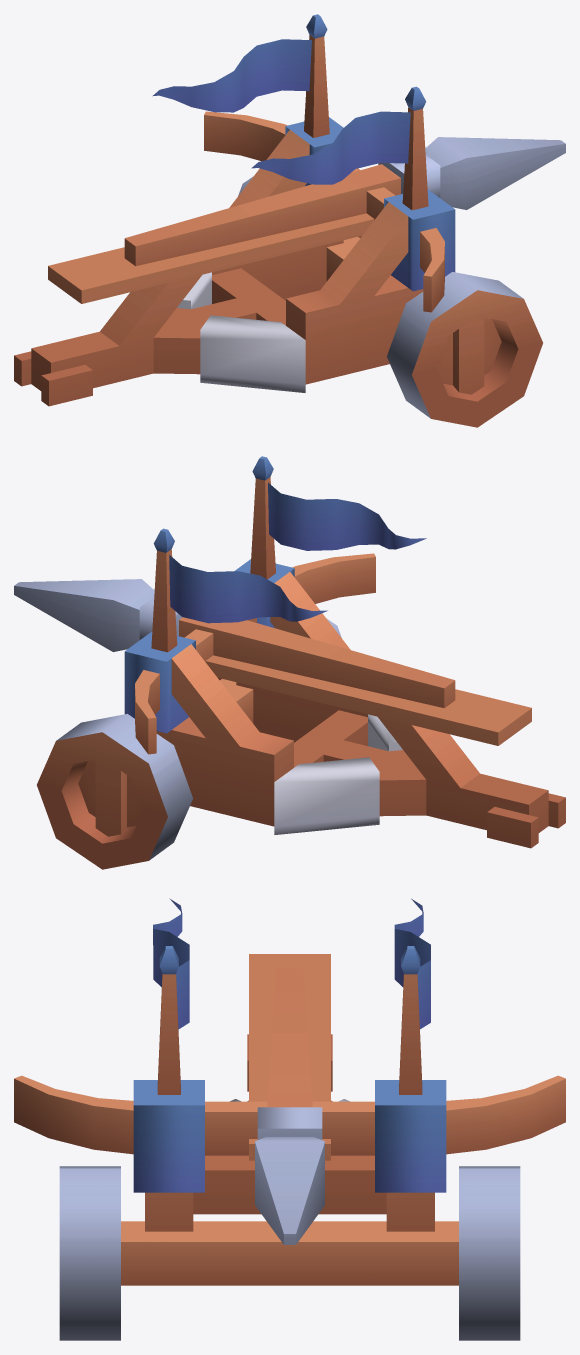
The model's file is siege-ballista.glb.
3 views of the same model, one above another, from view 1: azimuth 30°, elevation 25°; view 2: azimuth 150°, elevation 25°; view 3: azimuth 270°, elevation 25° (orthographic). The views are drawn at different scales.
Parts seen in each view (by area): view 1: siege-ballista; view 2: siege-ballista; view 3: siege-ballista.
Part boxes in pixels (box(x1,y1,x2,y2)): siege-ballista: box(14, 14, 565, 427); siege-ballista: box(14, 456, 565, 869); siege-ballista: box(14, 898, 565, 1340).
Size of the model in its own units: 1.63 by 0.9102 by 1.2.
Materials: 1 (1 with a texture image).
